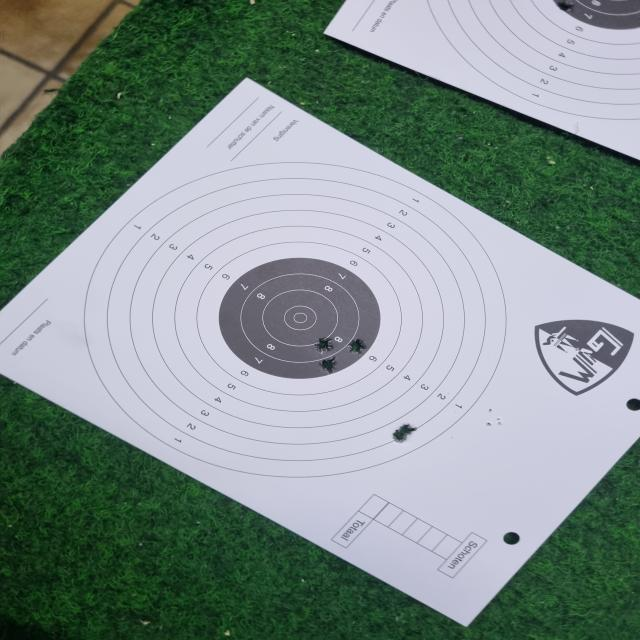10: (315, 339, 332, 352)
3: (397, 424, 418, 434), (392, 431, 406, 444)
8: (318, 356, 336, 374)
9: (348, 339, 364, 354)
Black Contour: (218, 258, 382, 380)
Target: (84, 162, 507, 478)
